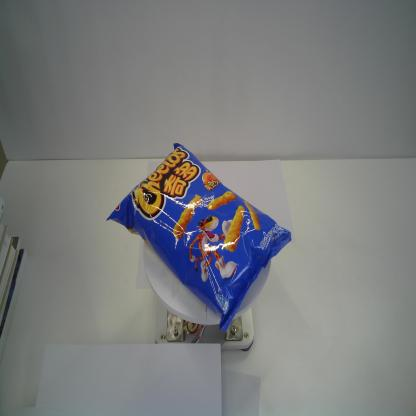Puffed Food: (104, 140, 294, 335)
